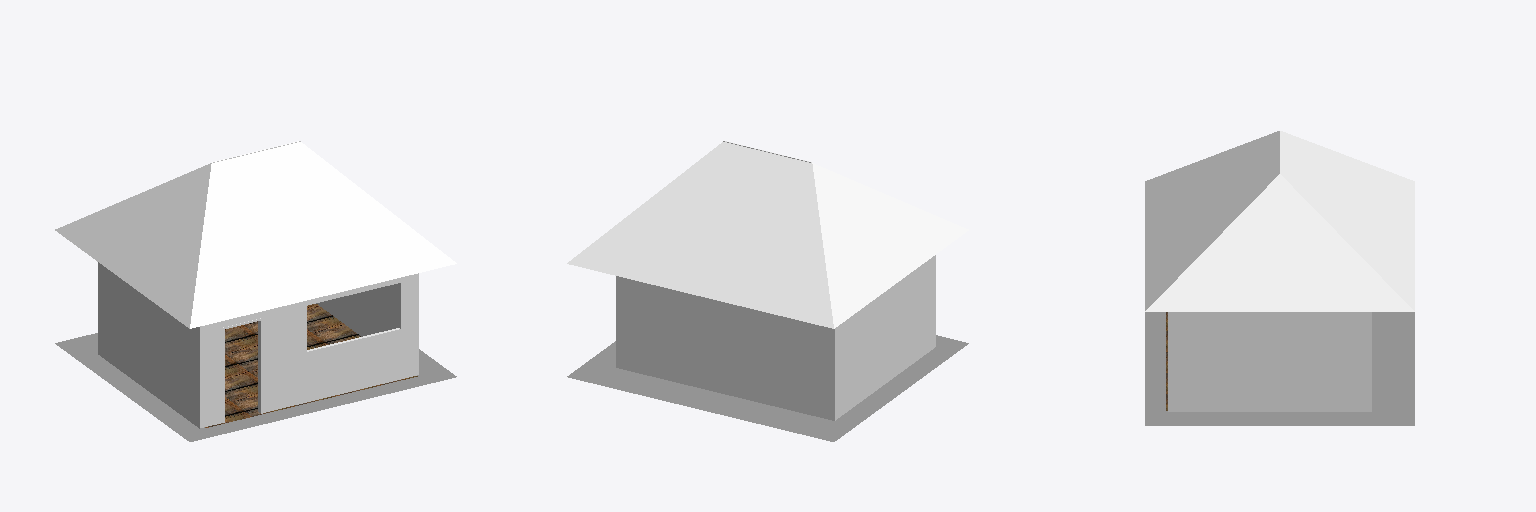
The picture shows the model from 3 angles: view 1: azimuth 30°, elevation 25°; view 2: azimuth 150°, elevation 25°; view 3: azimuth 270°, elevation 25°; orthographic projection.
Visible parts, largest first — view 1: PolyMesh_1_None_None_31, wall_2_11, wall_1_5, PolyMesh_1_None_None_30, ground_1, room_5_26, wall_3_16, Montant_28; view 2: PolyMesh_1_None_None_30, wall_4_23, wall_1_5, ground_1, PolyMesh_1_None_None_31; view 3: PolyMesh_1_None_None_30, PolyMesh_1_None_None_31, wall_3_17, ground_1.
Boxes of the visible parts, box(x1,y1,x2,y2) form: PolyMesh_1_None_None_31: box(122, 141, 456, 328); wall_2_11: box(200, 273, 418, 427); wall_1_5: box(98, 262, 199, 428); PolyMesh_1_None_None_30: box(55, 141, 300, 278); ground_1: box(55, 333, 456, 441); room_5_26: box(205, 304, 417, 427); wall_3_16: box(316, 283, 398, 336); Montant_28: box(223, 318, 262, 422); PolyMesh_1_None_None_30: box(567, 141, 901, 328); wall_4_23: box(616, 276, 834, 420); wall_1_5: box(835, 255, 935, 420); ground_1: box(567, 335, 968, 441); PolyMesh_1_None_None_31: box(723, 141, 968, 278); PolyMesh_1_None_None_30: box(1280, 131, 1414, 311); PolyMesh_1_None_None_31: box(1145, 131, 1279, 311); wall_3_17: box(1168, 312, 1371, 411); ground_1: box(1145, 312, 1414, 425).
Bounding box in the file's own units: 613 × 456 × 537.
6 materials, 1 textured.